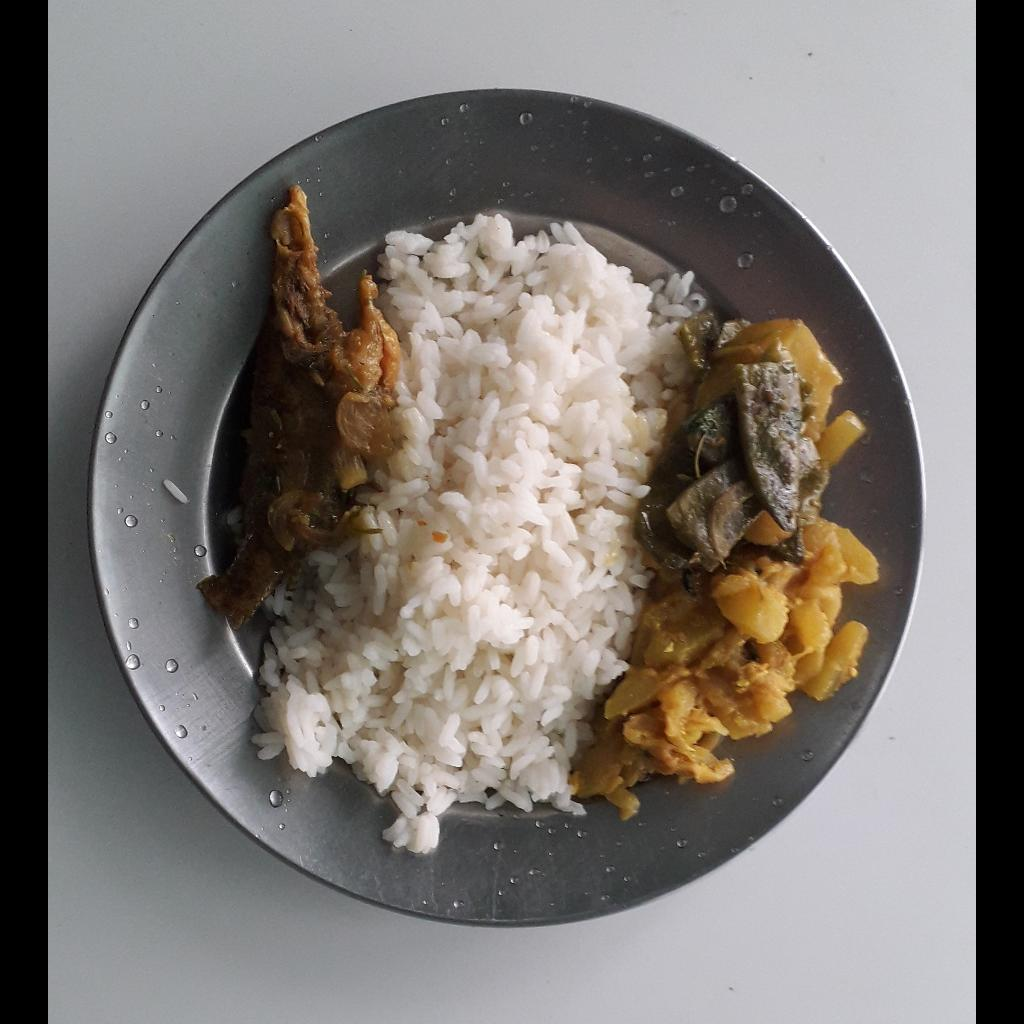fish: (184, 177, 395, 636)
kumra-vaji: (581, 516, 882, 812)
potato: (697, 309, 869, 461)
rice: (252, 210, 699, 856)
shim: (633, 342, 833, 579), (680, 310, 758, 371)
